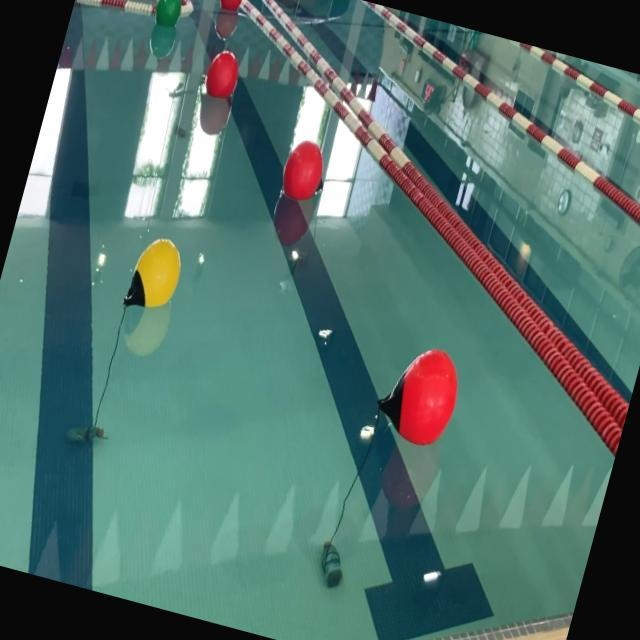buoy: (370, 337, 468, 453), (122, 230, 189, 318), (274, 134, 332, 208), (201, 45, 245, 103), (148, 0, 186, 32), (216, 0, 247, 14)
